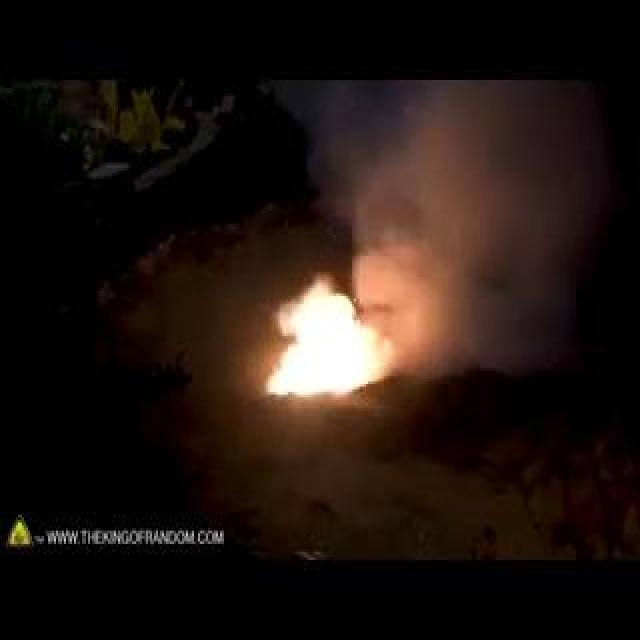Fire: (154, 174, 330, 314)
